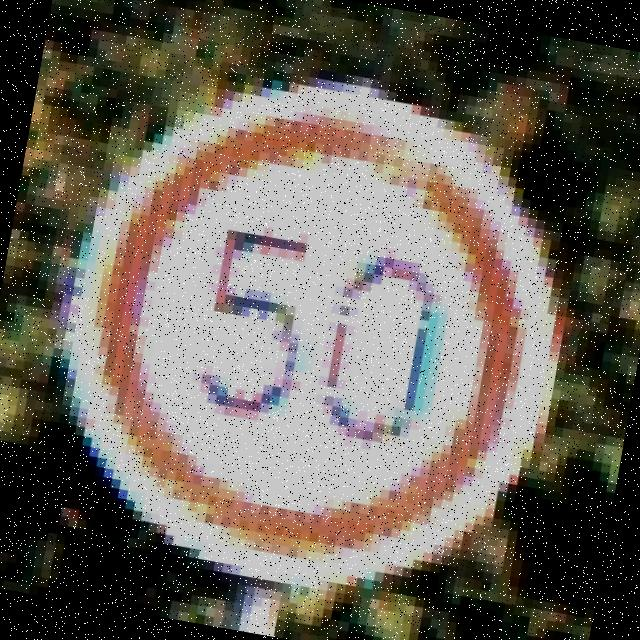Ograniczenie predkosci do 50: (42, 61, 580, 604)
